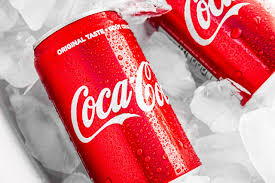metal: (30, 8, 204, 183), (133, 1, 275, 108)
